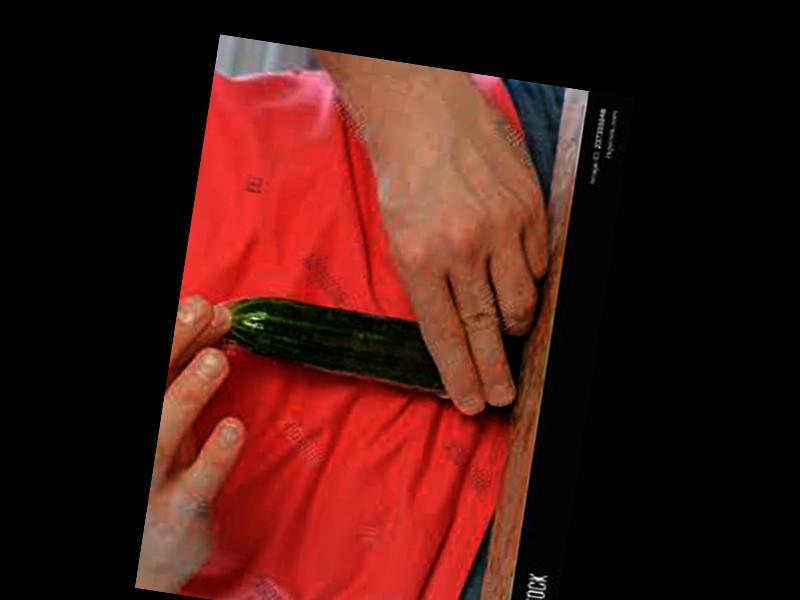Cucumber: (223, 290, 456, 393)
